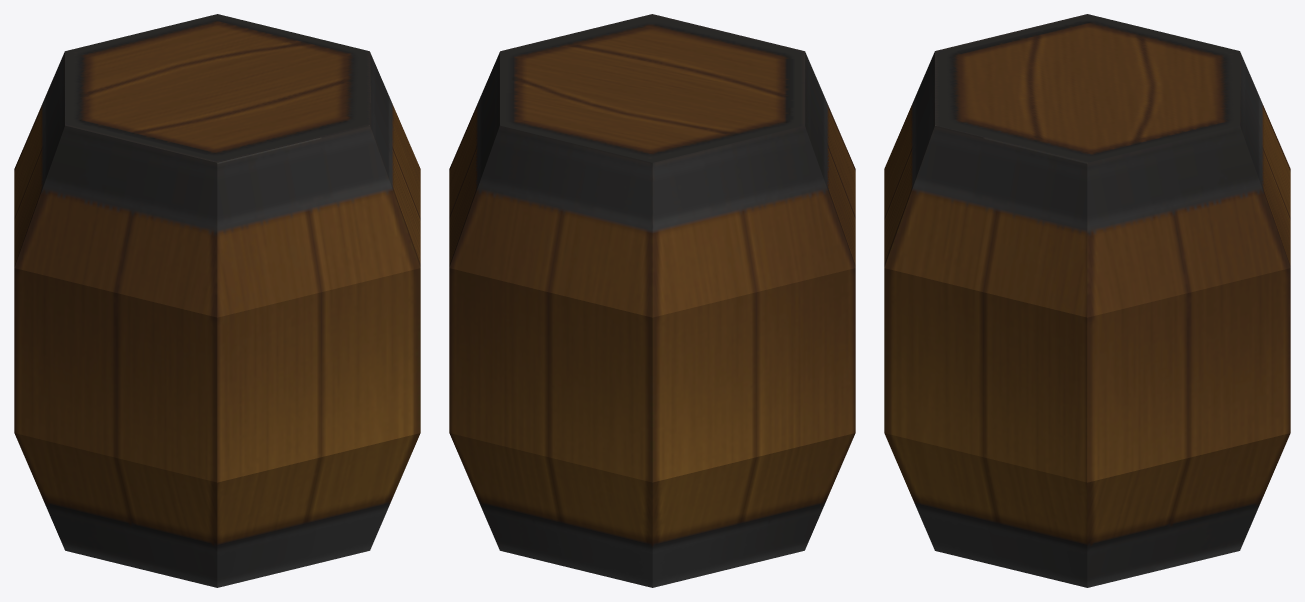
The model's file is barrel.obj.
3 renders of one model, left to right at view 1: azimuth 30°, elevation 25°; view 2: azimuth 150°, elevation 25°; view 3: azimuth 270°, elevation 25°, orthographic.
Visible parts, largest first — view 1: prop1_g_10001_p_0, prop1_g_10001_p_1; view 2: prop1_g_10001_p_0, prop1_g_10001_p_1; view 3: prop1_g_10001_p_0, prop1_g_10001_p_1.
Boxes of the visible parts, left/top/right/bottom form: prop1_g_10001_p_0: left=14, top=51, right=420, bottom=482; prop1_g_10001_p_1: left=14, top=14, right=420, bottom=587; prop1_g_10001_p_0: left=449, top=51, right=855, bottom=482; prop1_g_10001_p_1: left=449, top=14, right=855, bottom=587; prop1_g_10001_p_0: left=884, top=51, right=1290, bottom=482; prop1_g_10001_p_1: left=884, top=14, right=1290, bottom=587.
Size of the model in its own units: 100 by 100 by 86.6.
